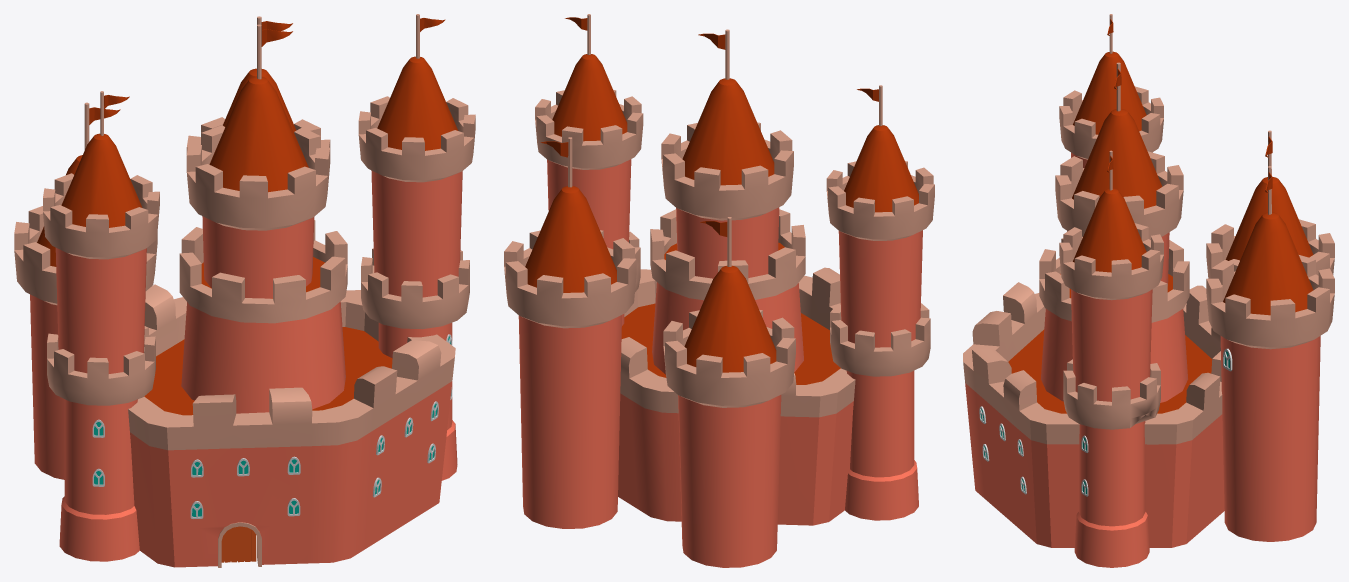
The model's file is Big_Castle_UpgradeDouble_Stage1.fbx.
3 views of the same model, side by side, from view 1: azimuth 30°, elevation 25°; view 2: azimuth 150°, elevation 25°; view 3: azimuth 270°, elevation 25° (orthographic). The views are drawn at different scales.
Parts seen in each view (by area): view 1: Big_Castle_UpgradeDouble_Stage1.001; view 2: Big_Castle_UpgradeDouble_Stage1.001; view 3: Big_Castle_UpgradeDouble_Stage1.001.
Boxes of the visible parts, <box> form: Big_Castle_UpgradeDouble_Stage1.001: <box>14,14,475,567</box>; Big_Castle_UpgradeDouble_Stage1.001: <box>504,14,934,567</box>; Big_Castle_UpgradeDouble_Stage1.001: <box>963,14,1334,567</box>.
Size of the model in its own units: 983 by 1072 by 853.
1 material, 1 textured.
